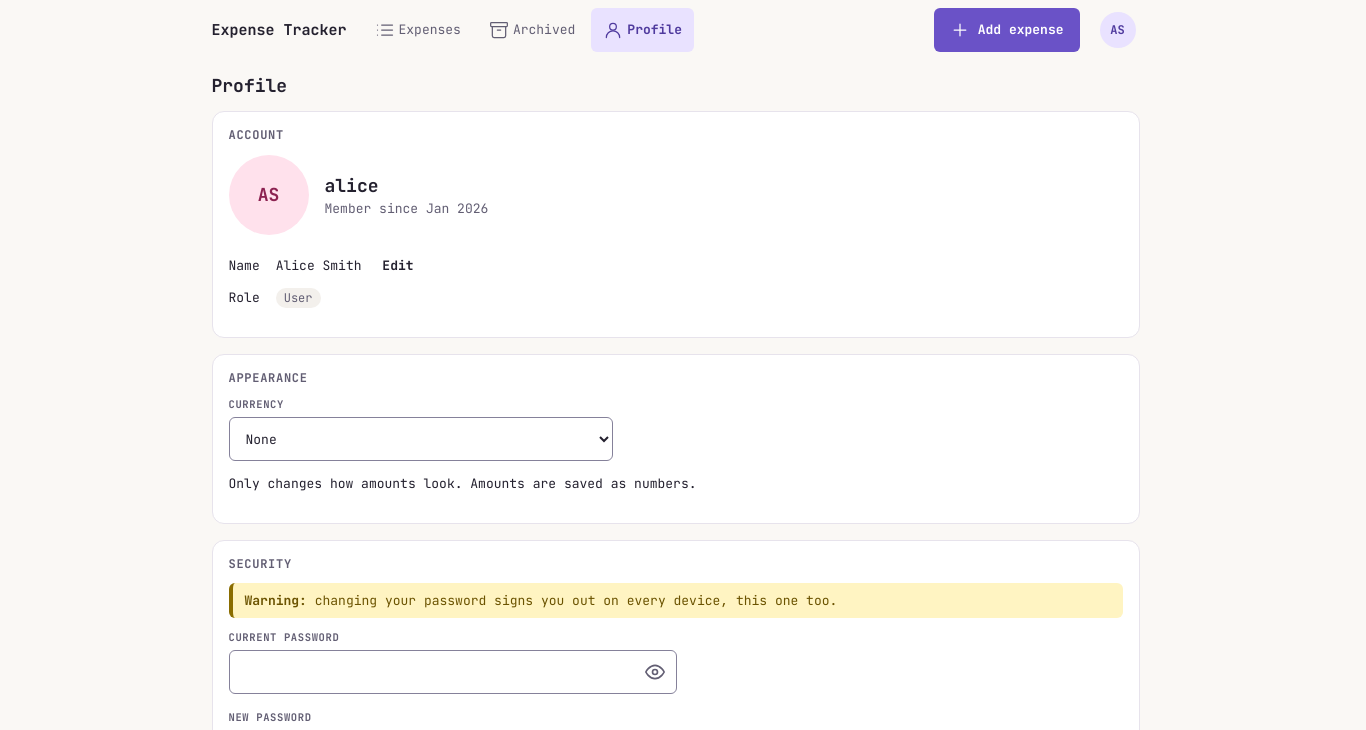
it: display name › clears the name by sending an empty string
Expected: the heading "Profile" is shown, [212,74,287,97]
Click the button "Edit" at point(398, 266), box [369,248,426,284]
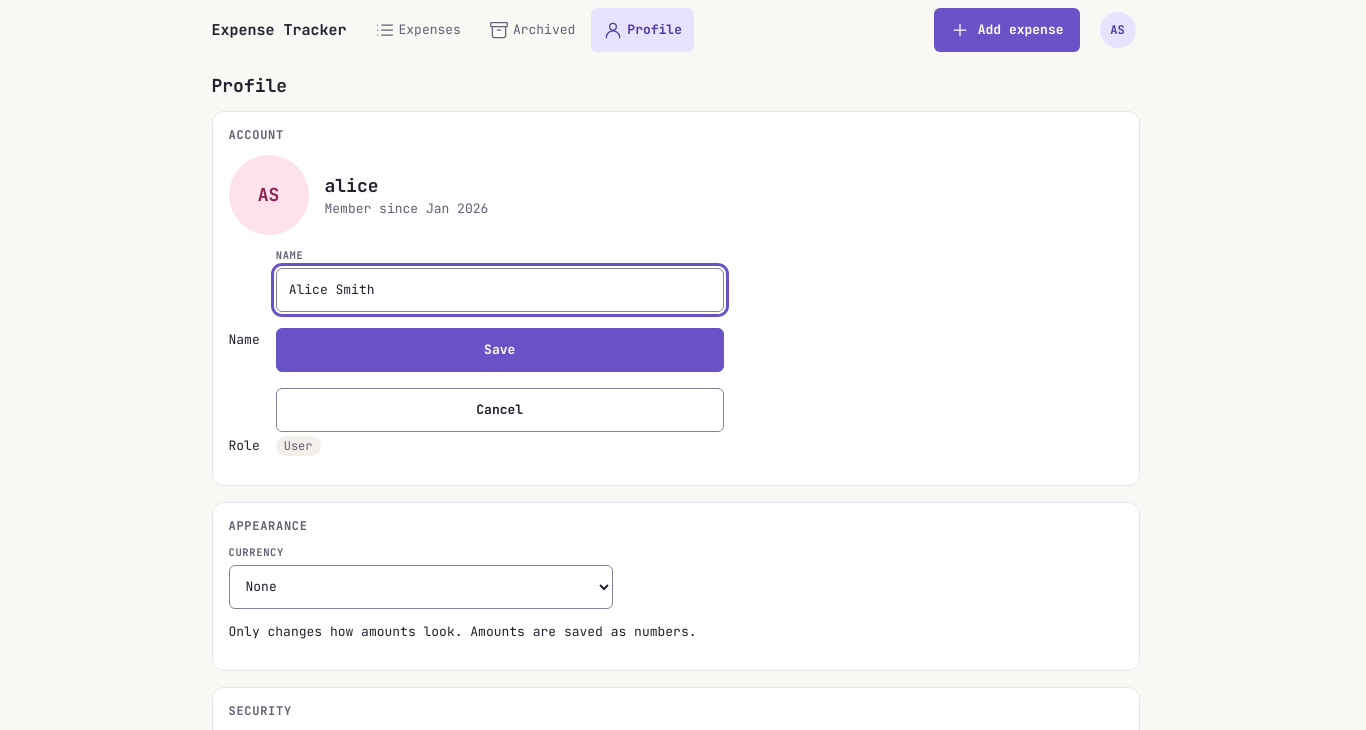
Clear the field labelled "Name" at point(500, 290), box [276,268,724,312]
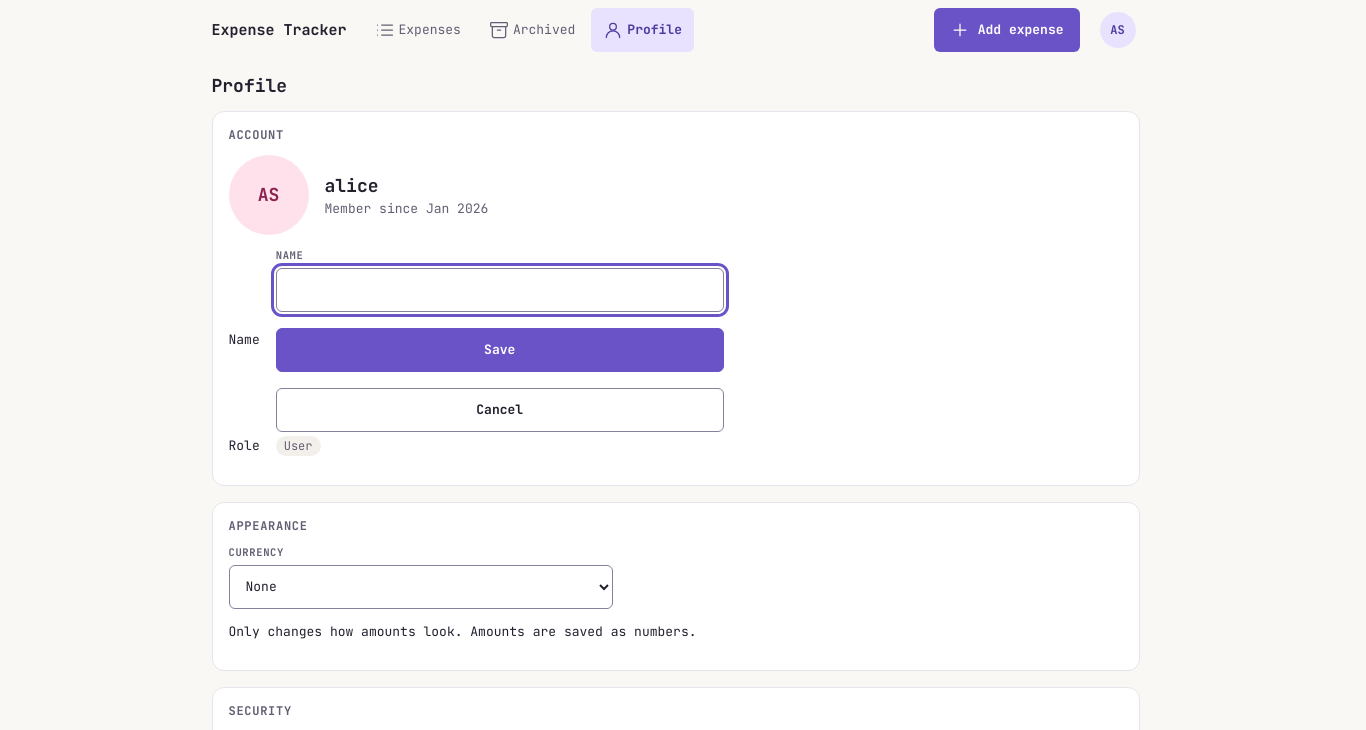
Click the button "Save" at point(500, 350), box [276,328,724,372]
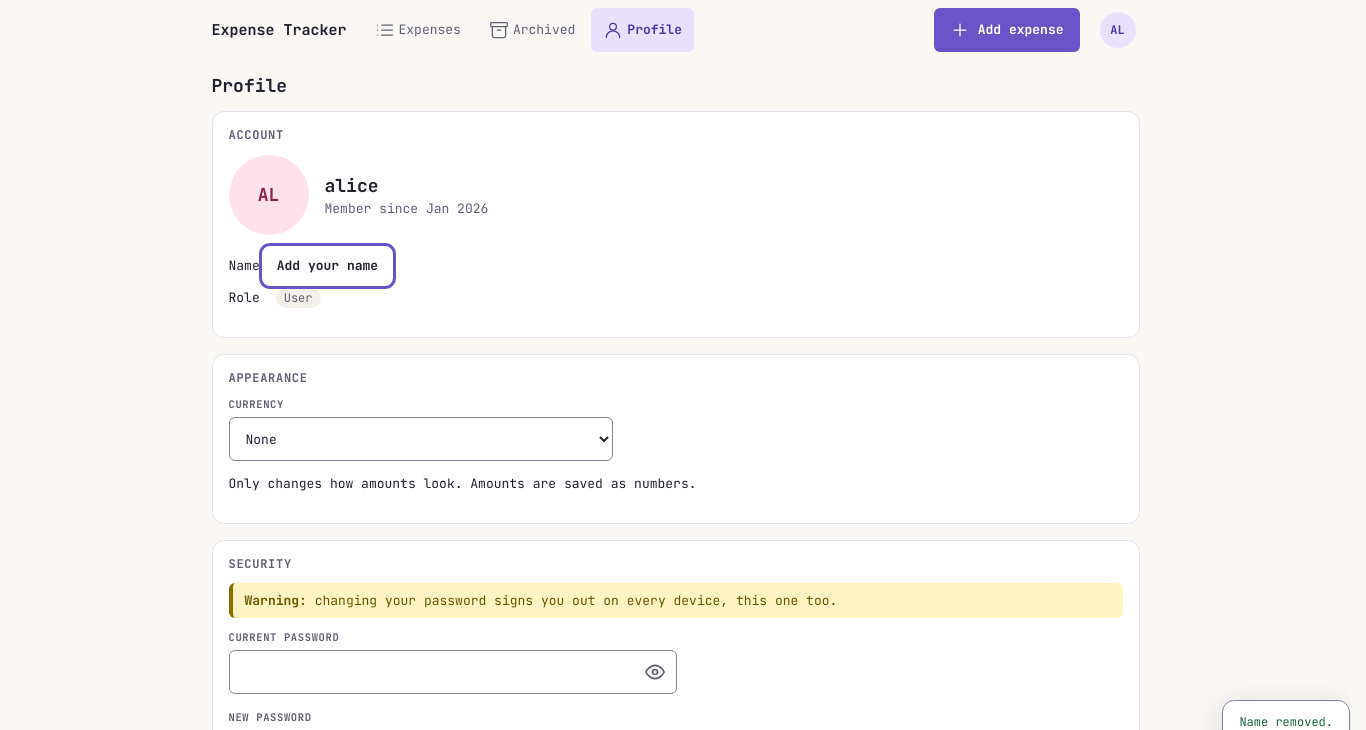
Now the button "Add your name" is shown, box [264,248,391,284]
